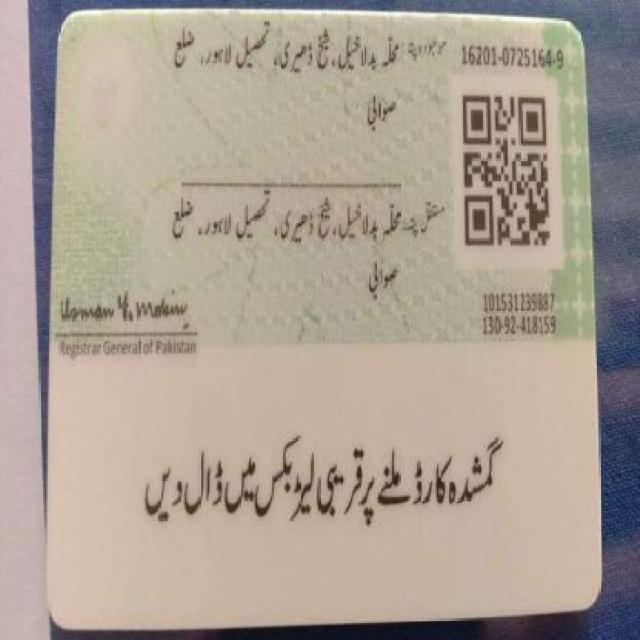Back: (46, 9, 608, 608)
